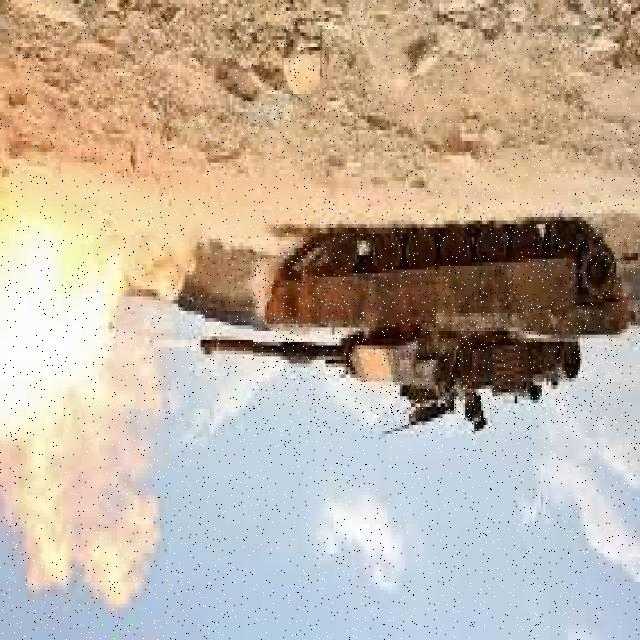MIL_MBT: (253, 230, 620, 430)
